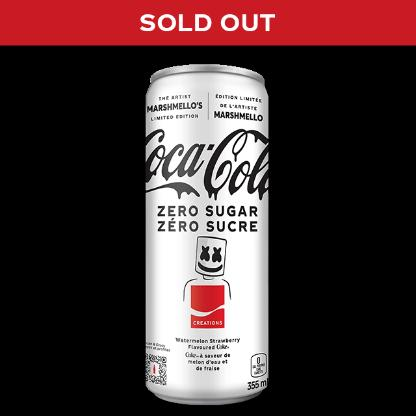Tin_Can: (140, 61, 278, 406)
